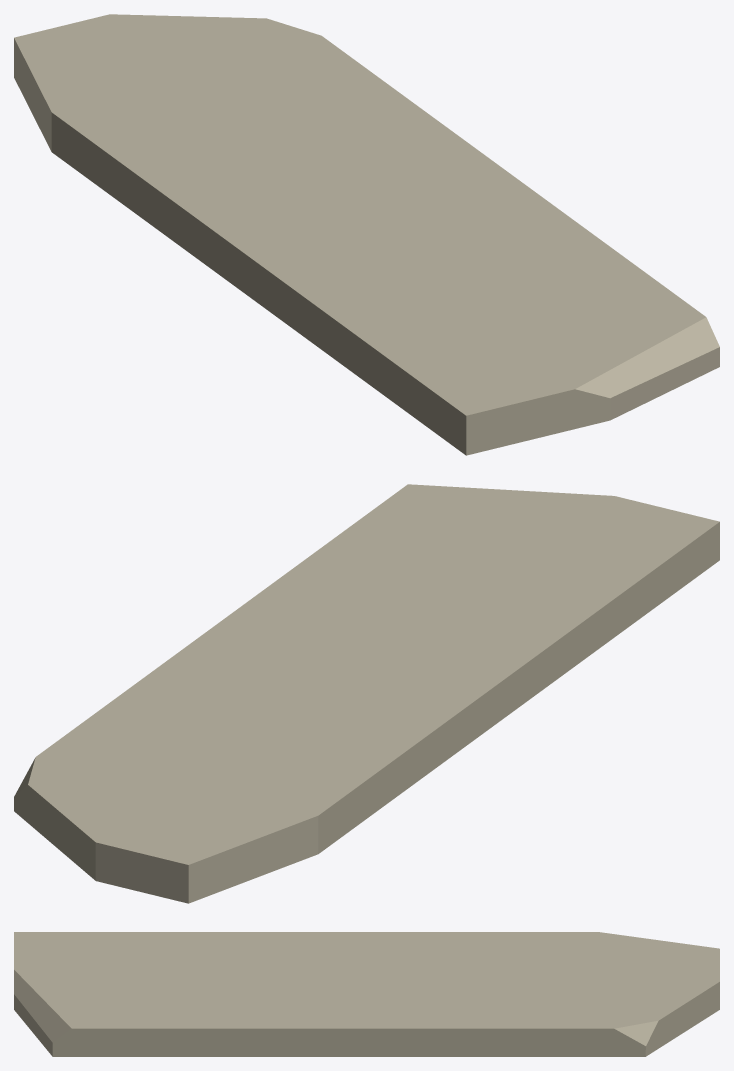
The model's file is stair_1_3.fbx.
3 views of the same model, one above another, from view 1: azimuth 30°, elevation 25°; view 2: azimuth 150°, elevation 25°; view 3: azimuth 270°, elevation 25° (orthographic). The views are drawn at different scales.
Parts seen in each view (by area): view 1: stair_1_3; view 2: stair_1_3; view 3: stair_1_3.
Part boxes in pixels (x1,y1,x2,y2): stair_1_3: (14,14,719,455); stair_1_3: (14,484,719,903); stair_1_3: (14,932,719,1056).
Bounding box in the file's own units: 2 × 0.2712 × 6.16.
